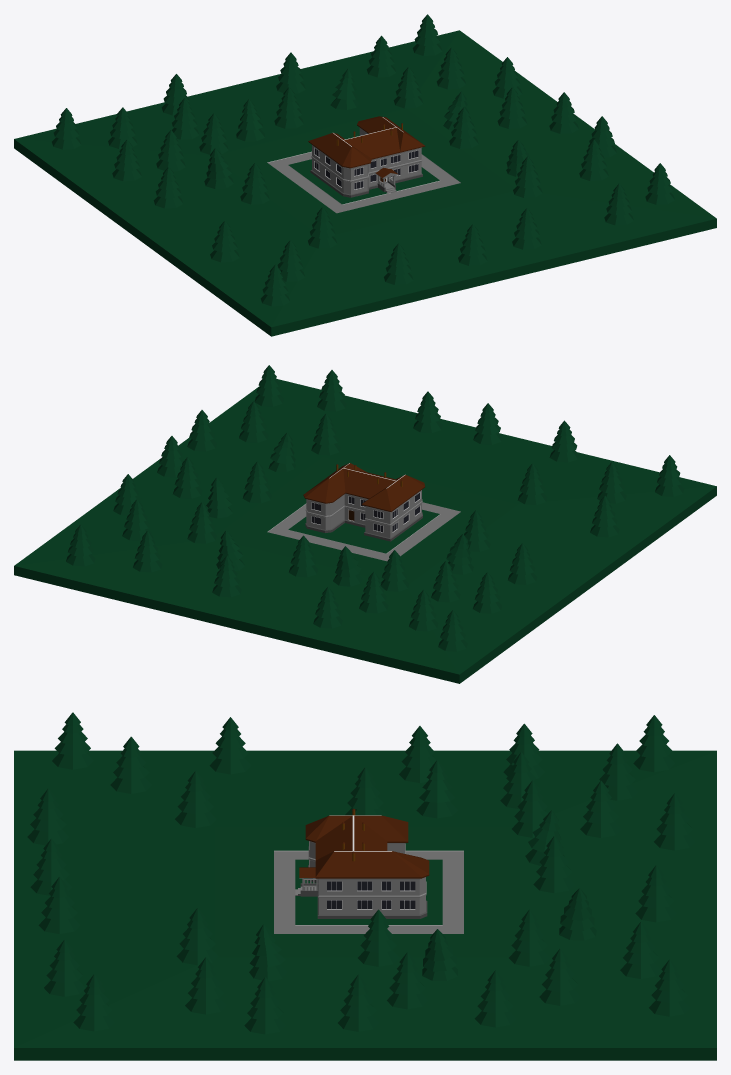
3 renders of one model, top to bottom at view 1: azimuth 30°, elevation 25°; view 2: azimuth 150°, elevation 25°; view 3: azimuth 270°, elevation 25°, orthographic. The views are drawn at different scales.
Visible parts, largest first — view 1: Cube, Cube.002, WALLS; view 2: Cube, Cube.002, WALLS; view 3: Cube, Cube.002, WALLS, Cube.024, Cube.023, Cylinder.006.
Part boxes in pixels (box(x1,y1,x2,y2)): Cube: box(14, 30, 716, 336); Cube.002: box(308, 116, 425, 168); WALLS: box(311, 127, 422, 194); Cube: box(14, 378, 716, 683); Cube.002: box(303, 463, 425, 511); WALLS: box(305, 490, 422, 537); Cube: box(14, 750, 716, 1060); Cube.002: box(305, 815, 429, 878); WALLS: box(308, 841, 426, 914); Cube.024: box(308, 865, 427, 918); Cube.023: box(295, 867, 318, 896); Cylinder.006: box(416, 801, 458, 818).
Bounding box in the file's own units: 100 × 12.91 × 100.
